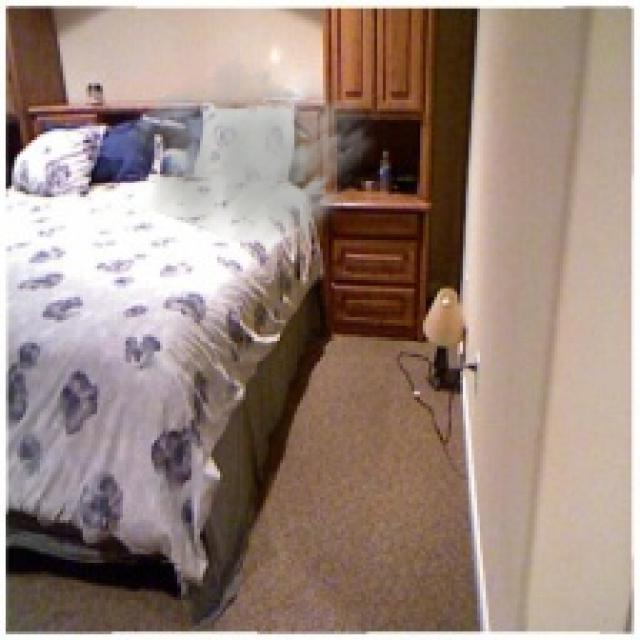smoke: (114, 54, 386, 266)
